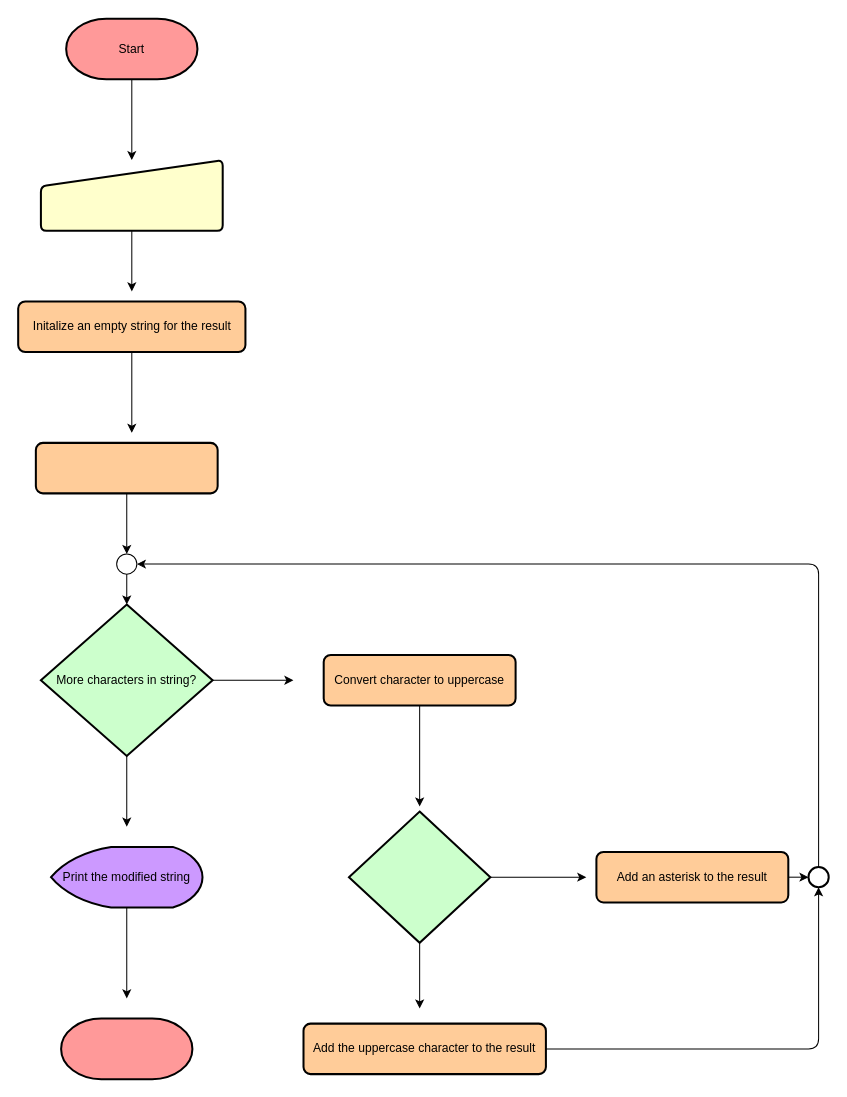
The diagram is 847 pixels wide and 1097 high, and some of its shapes have lost their labels. Here are the shapes that lost their labels. From the top down, the centre of each, then its label:
point (131, 195): Read input string from the user
point (126, 467): Define vowels as "aeiouAEIOU"
point (419, 876): Is character a vowel?
point (126, 1048): End
